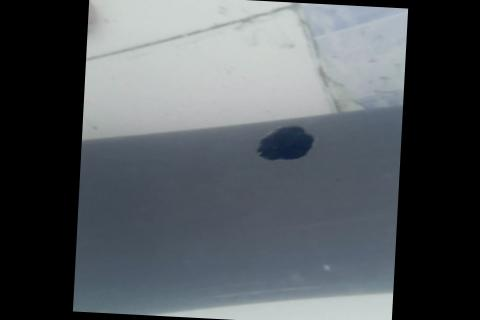kebocoran: (254, 123, 316, 162)
